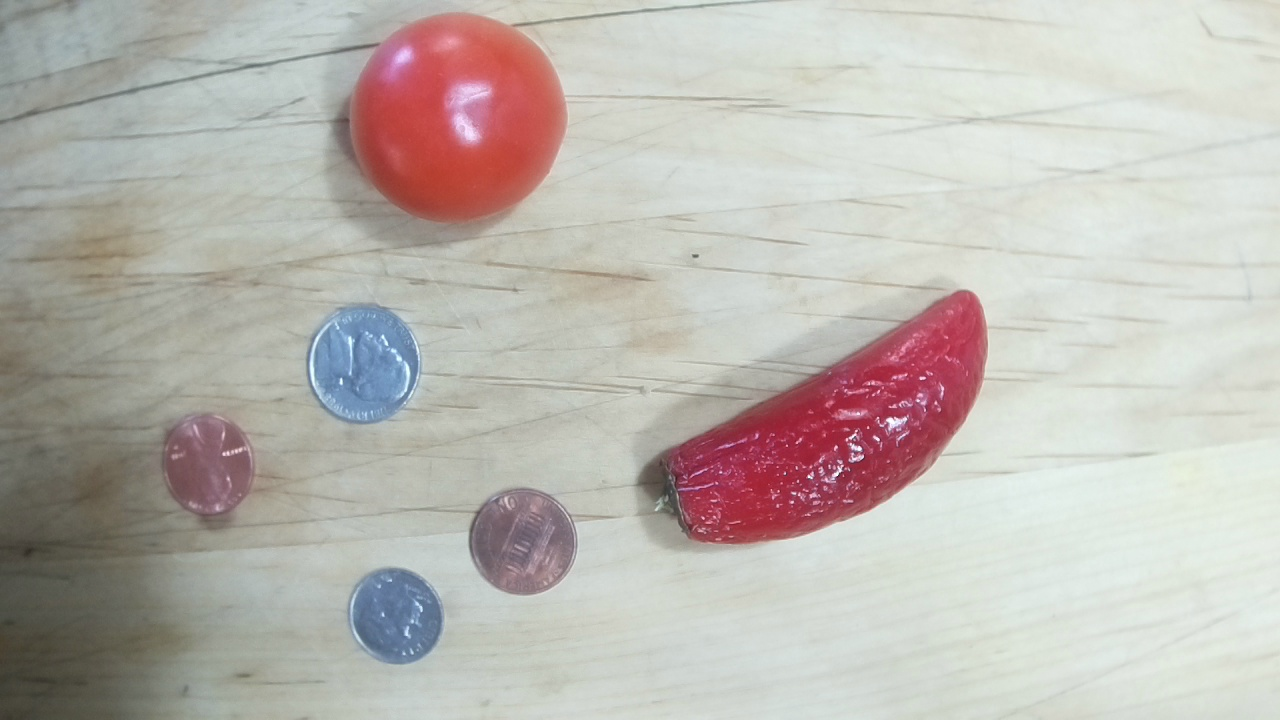dime: (351, 566, 443, 667)
nickel: (308, 305, 421, 425)
penny: (469, 487, 578, 598), (161, 411, 257, 518)
